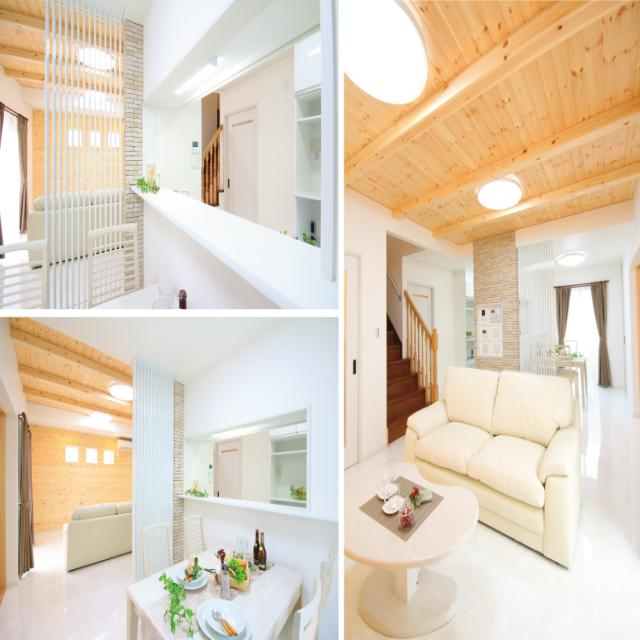white sofa: (393, 360, 576, 572)
